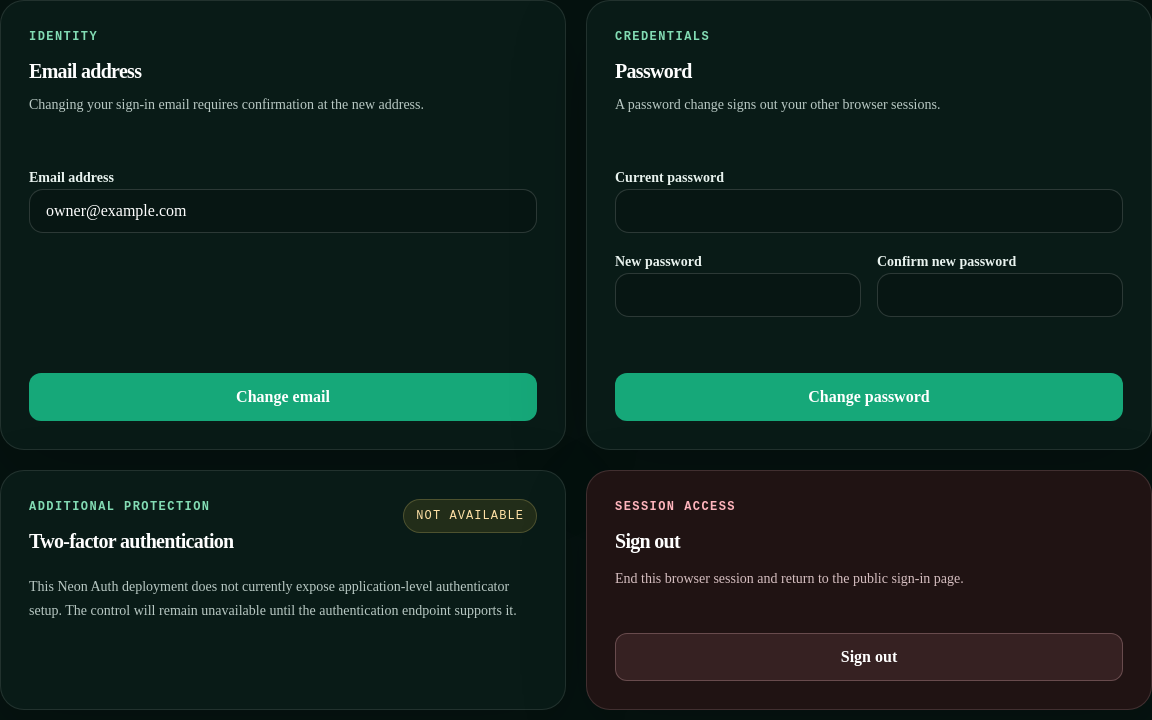
Scenario: AccountSecurityPanel › submits a verified email-change request through the authenticated client
This screenshot has width=1152, height=720.
Replace the text in the field labelled "Email address" with "new@example.com" at point(283, 211), box [29,189,537,233]
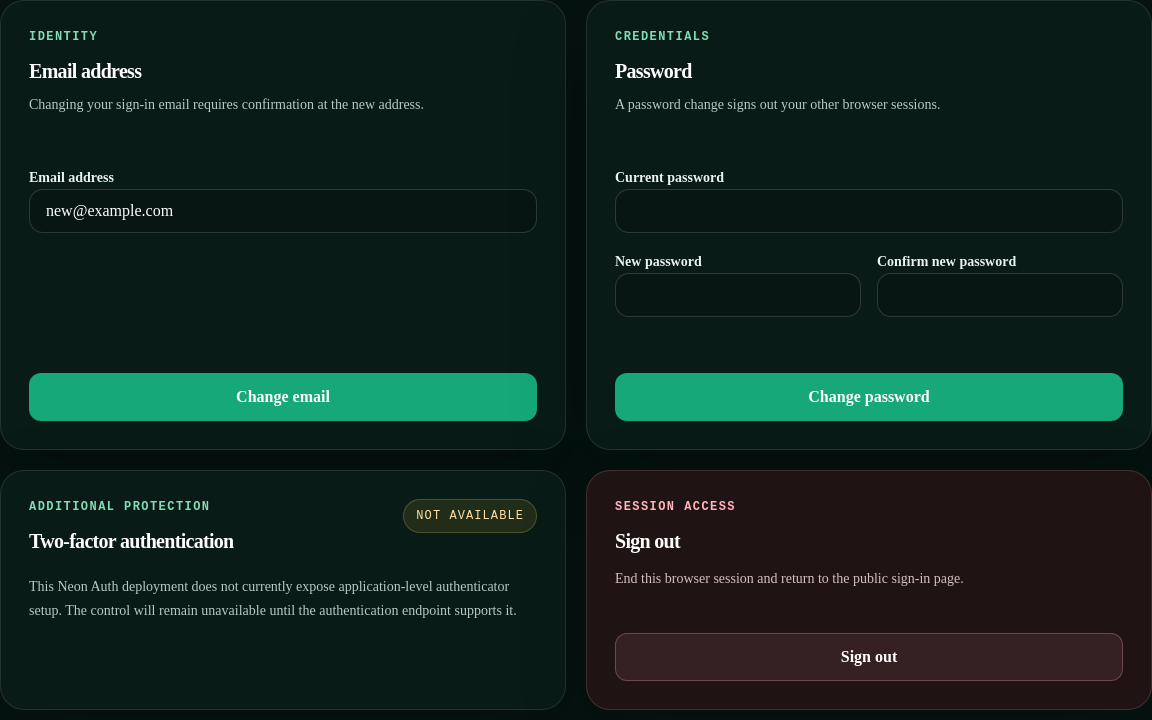
Submit the form labelled "Email address", box [29,165,537,421]
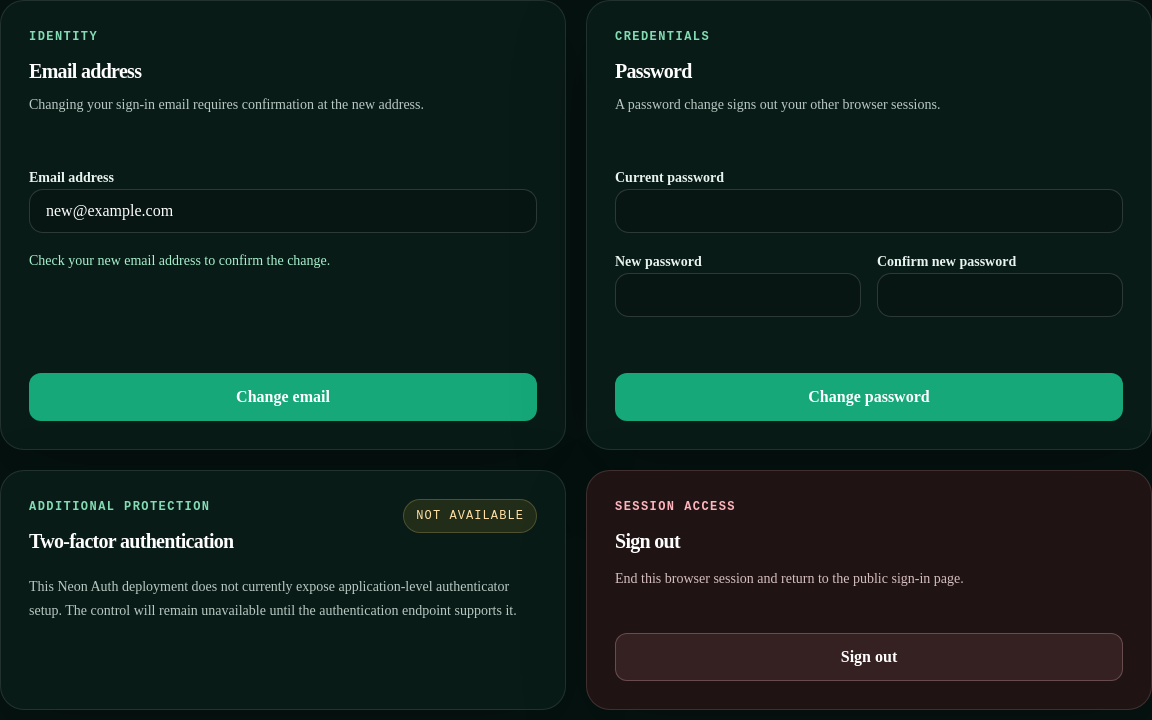
Result: the text "Check your new email address to confirm the change." is shown at [29,253,330,268]
